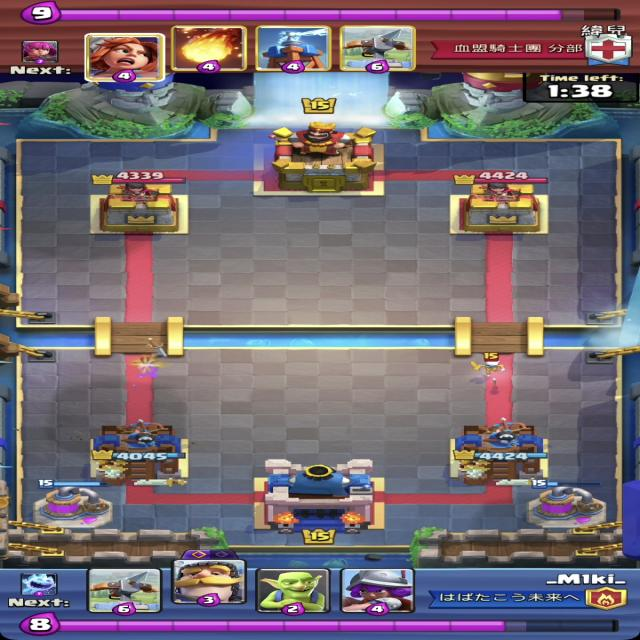Enemy-Skeleton: (470, 350, 507, 377)
Player-ElixirPump: (29, 480, 116, 530), (525, 479, 611, 529)
